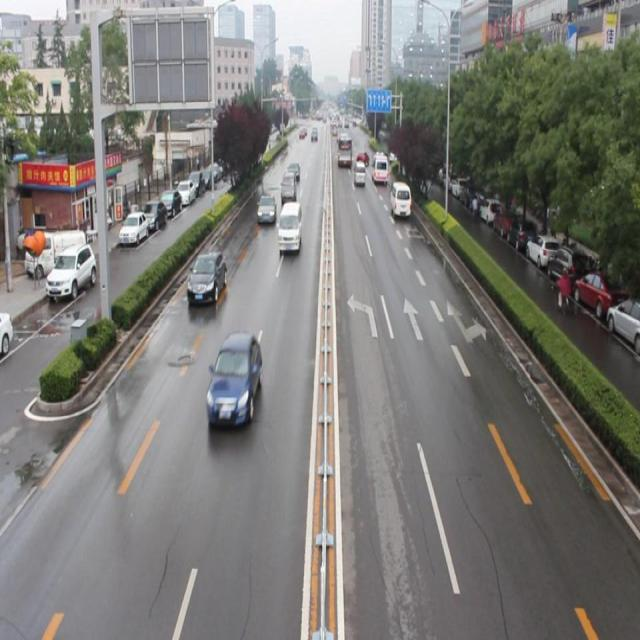car: (204, 334, 264, 428), (188, 251, 228, 302), (256, 191, 277, 224), (286, 162, 300, 183)
truck: (275, 202, 304, 252), (389, 179, 410, 220), (279, 171, 297, 206), (372, 152, 388, 185), (353, 163, 364, 185)
